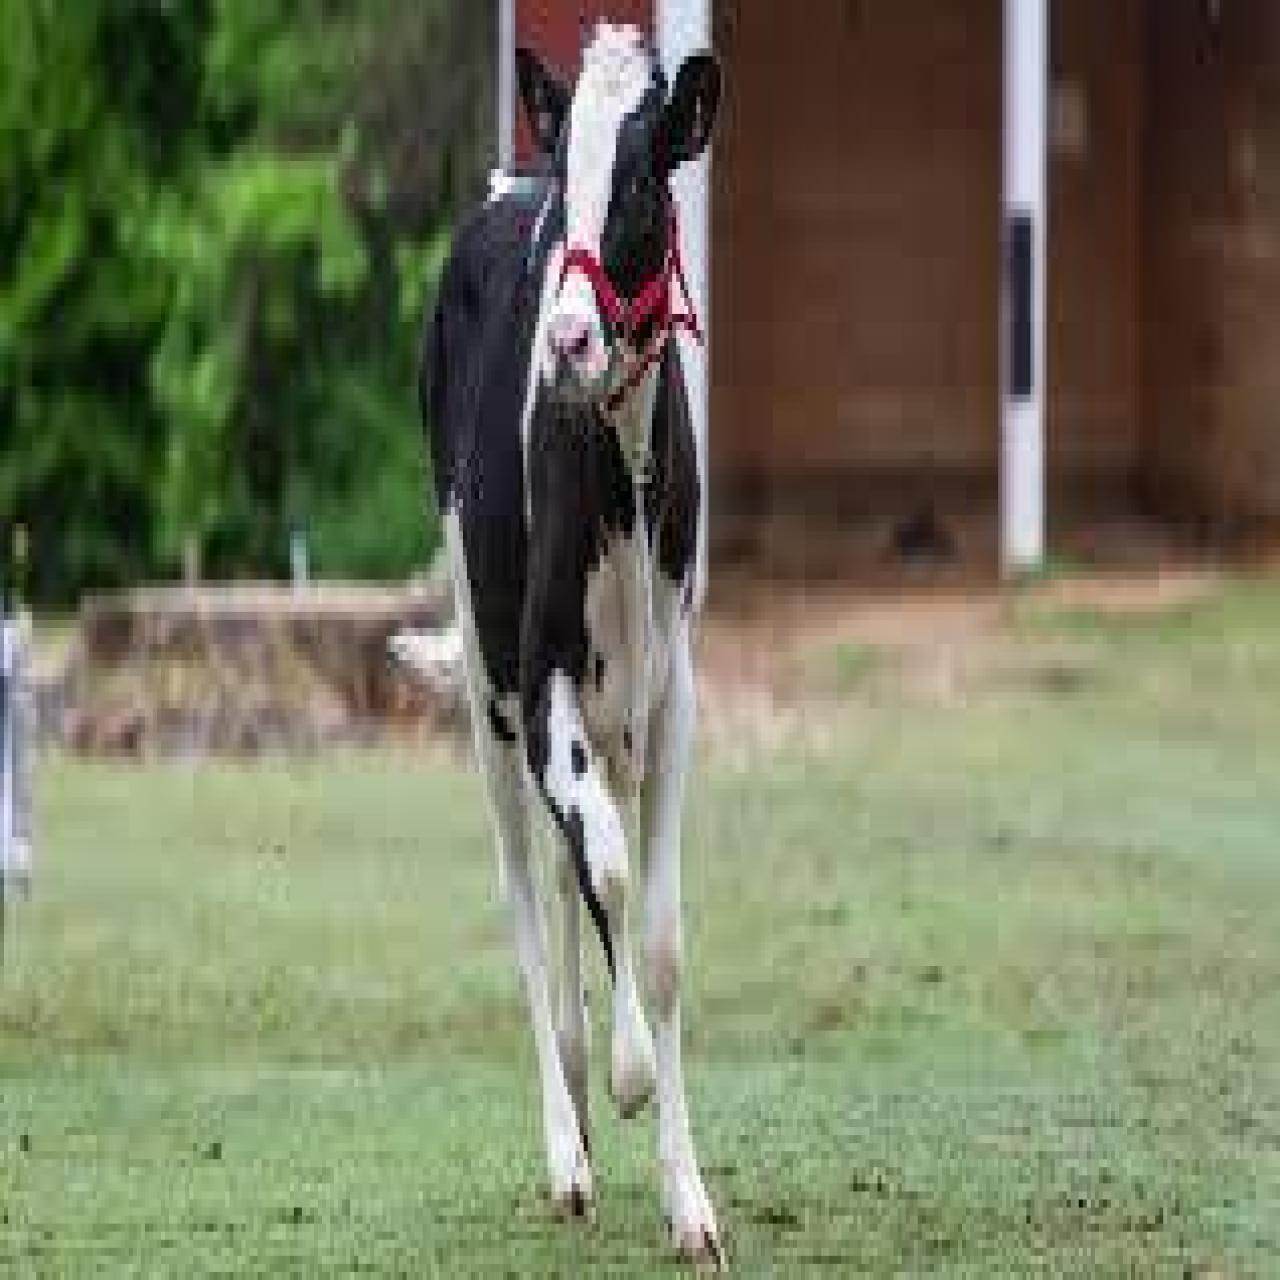cow: (430, 16, 724, 1247)
